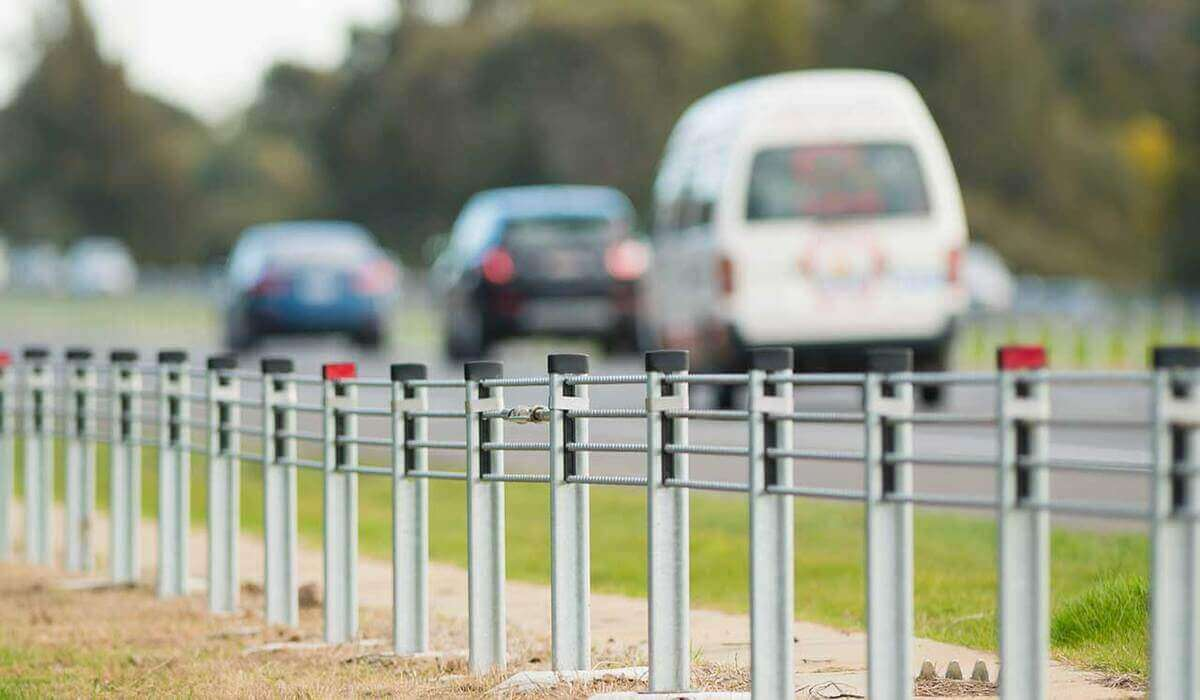not_damaged: (274, 343, 1025, 555)
